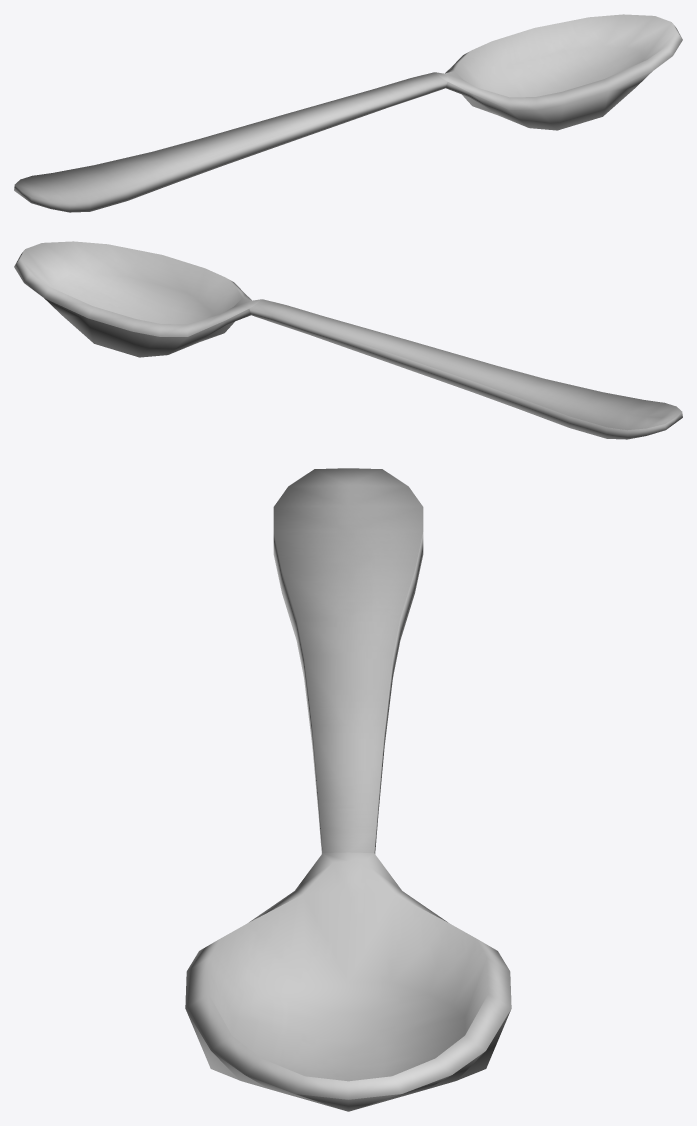
Rendered from Cuchara.obj.
The picture shows the model from 3 angles, top to bottom: view 1: azimuth 30°, elevation 25°; view 2: azimuth 150°, elevation 25°; view 3: azimuth 270°, elevation 25°; orthographic projection. The views are drawn at different scales.
Visible parts, largest first — view 1: Cuchara; view 2: Cuchara; view 3: Cuchara.
Boxes of the visible parts, x1,y1,x2,y2 form: Cuchara: (14,14,682,212); Cuchara: (14,241,682,439); Cuchara: (185,468,511,1111).
Bounding box in the file's own units: 2.26 × 0.1912 × 0.4874.
Materials: 1 (1 with a texture image).
